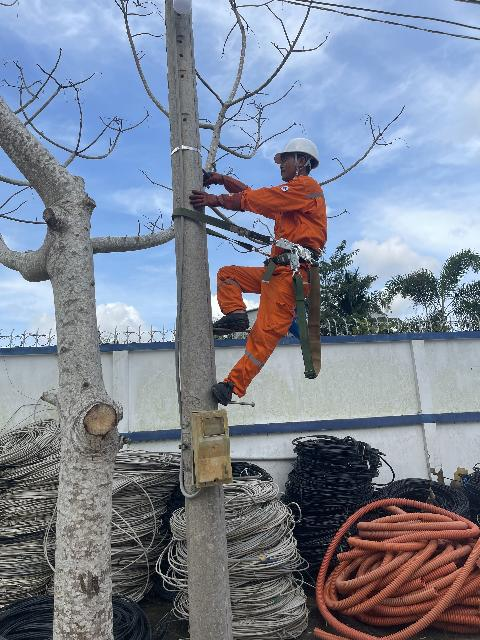gloves: (181, 190, 249, 214), (193, 167, 251, 194)
harness: (259, 225, 325, 277)
helmet: (268, 136, 329, 168)
shoes: (190, 375, 248, 409), (199, 303, 255, 335)
